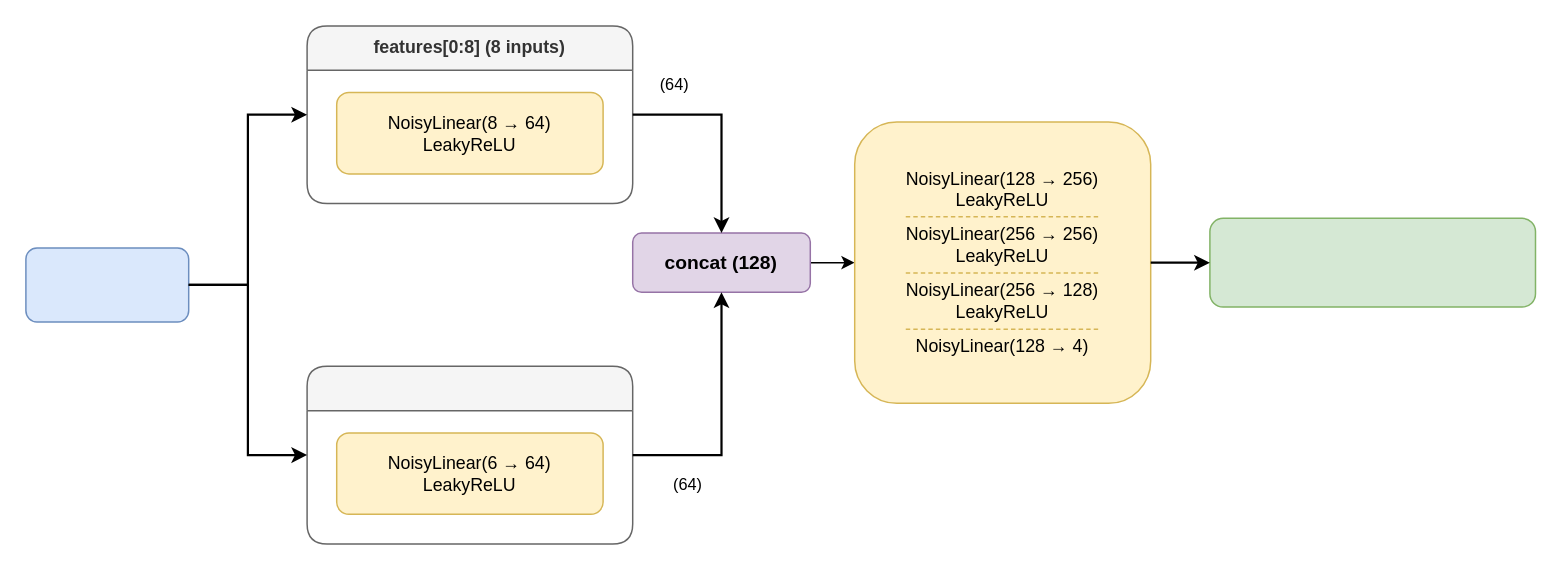
This 1561x570 diagram has some shape labels left out. The box of each missing label's shape, as (x1, y1, x2, y2) in pixels:
features[8:14] (6 inputs): (306, 365, 633, 544)
Q(s, ·) ∈ ℝ⁴ [no_op, jump, duck, stop_duck]: (1208, 217, 1536, 307)
state (14): (24, 246, 189, 322)
